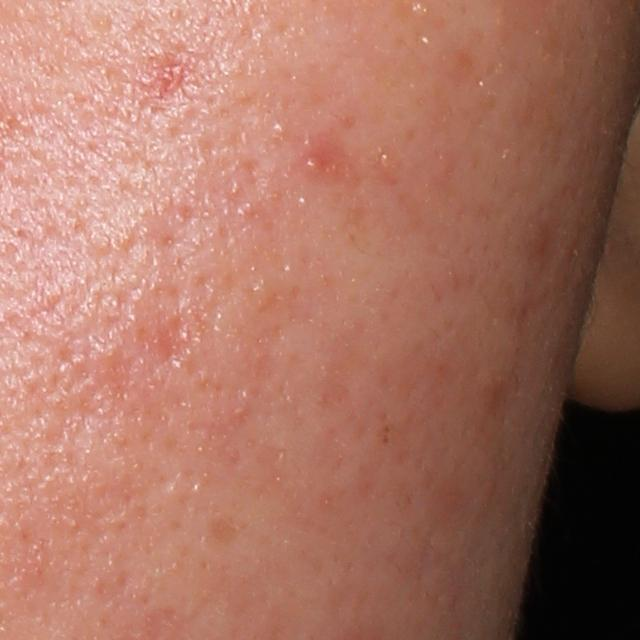atrophic_scar: (153, 320, 189, 368)
